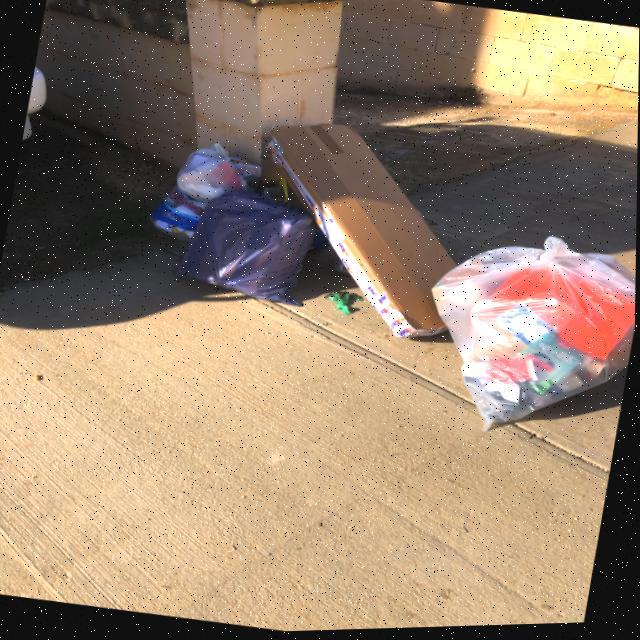Mixed Waste -Black Bag-: (168, 161, 340, 317)
Other: (234, 107, 485, 357), (141, 183, 210, 248), (323, 288, 366, 322), (260, 176, 291, 203), (334, 258, 360, 280)
Recycled Waste -Grey or Green Bag-: (410, 222, 638, 463), (175, 141, 267, 210)
